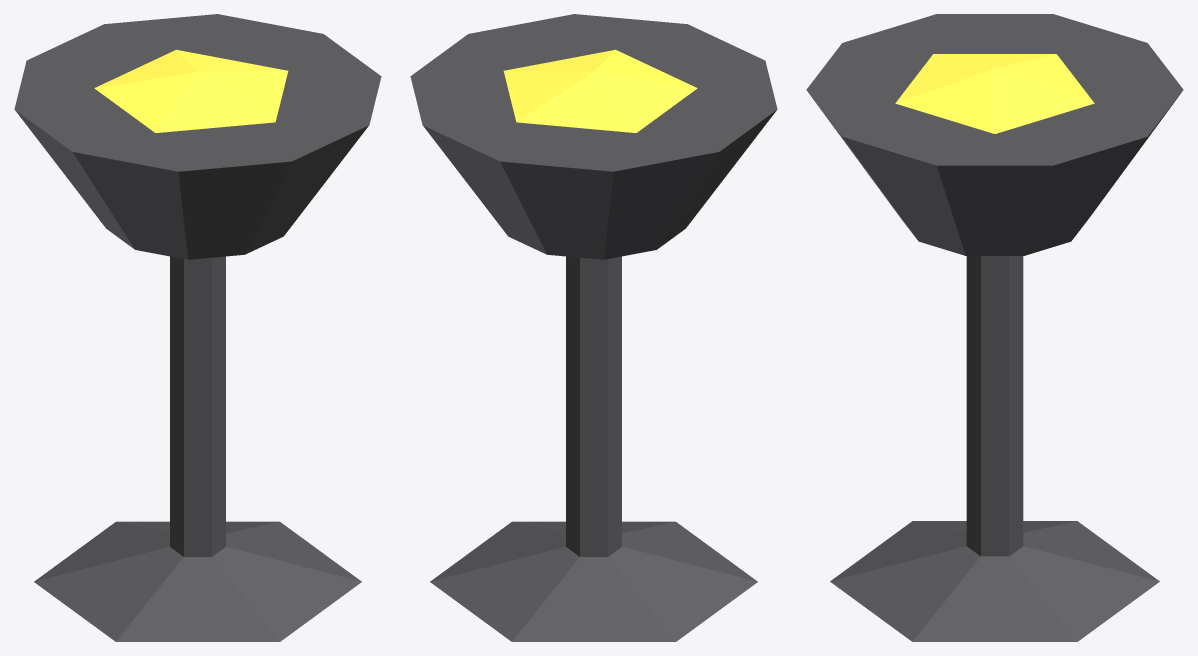
Rendered from brazier.glb.
3 renders of one model, left to right at view 1: azimuth 30°, elevation 25°; view 2: azimuth 150°, elevation 25°; view 3: azimuth 270°, elevation 25°, orthographic.
Parts seen in each view (by area): view 1: brazier; view 2: brazier; view 3: brazier.
Boxes of the visible parts, <box> form: brazier: <box>14,14,381,641</box>; brazier: <box>410,14,777,641</box>; brazier: <box>806,14,1183,641</box>.
Size of the model in its own units: 0.7608 by 1.2 by 0.8.
